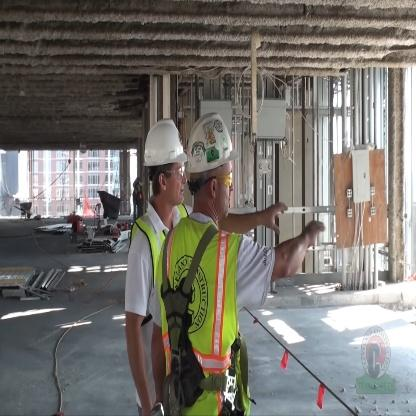helmet: (184, 107, 236, 218), (134, 118, 195, 208)
